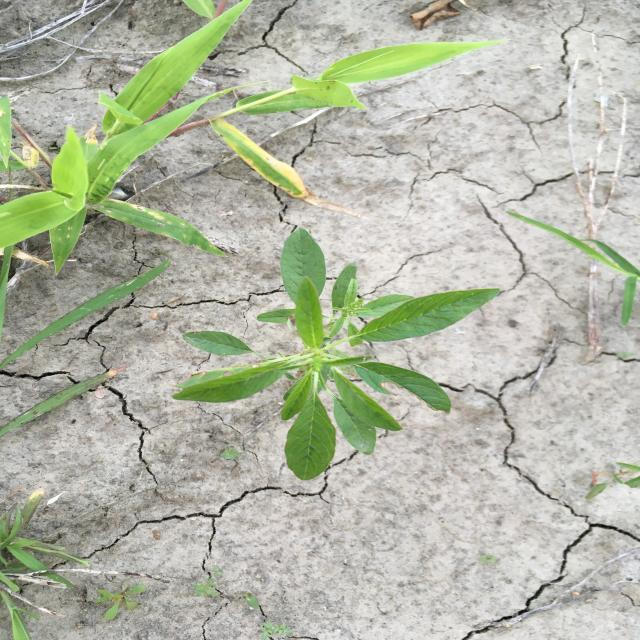Carpetweed: (83, 578, 154, 625)
Waterhemp: (168, 224, 503, 483)
